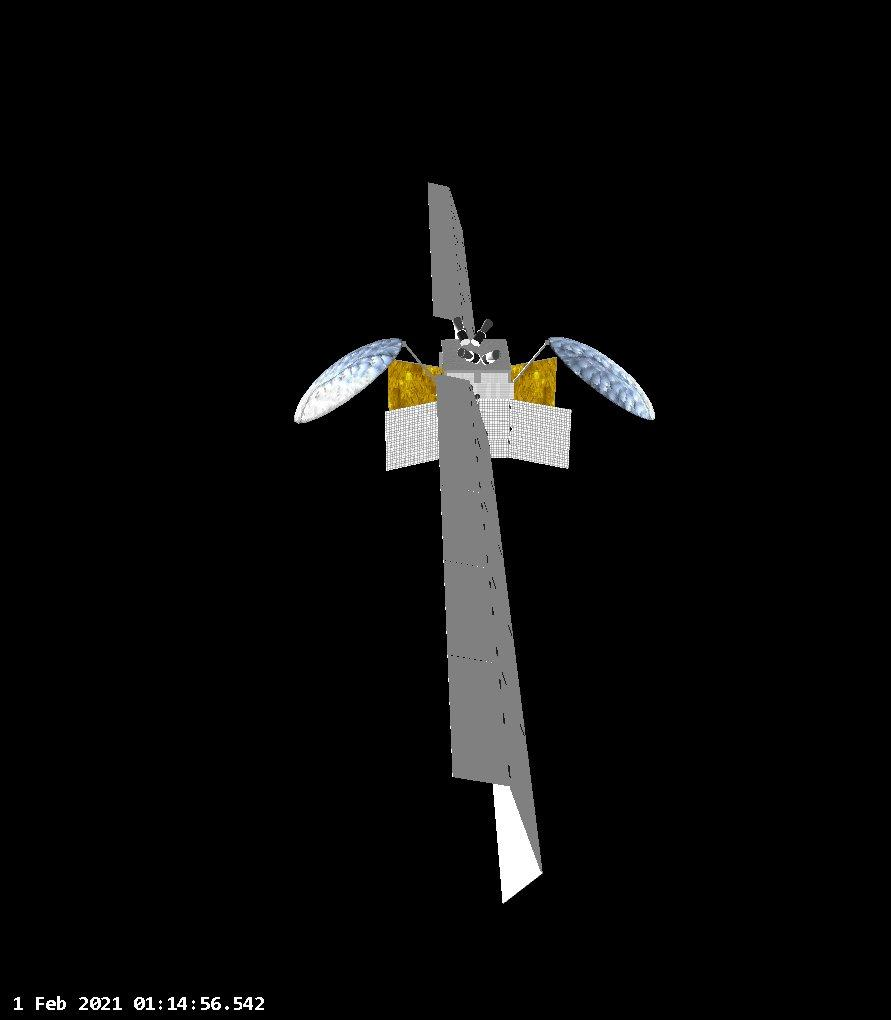antenna: (289, 332, 409, 430), (546, 330, 658, 423)
body: (435, 338, 515, 415)
solar: (432, 371, 545, 909), (383, 394, 573, 473), (423, 179, 479, 346)
thruster: (478, 317, 494, 335), (456, 347, 474, 360), (451, 316, 464, 333), (486, 349, 500, 360)
